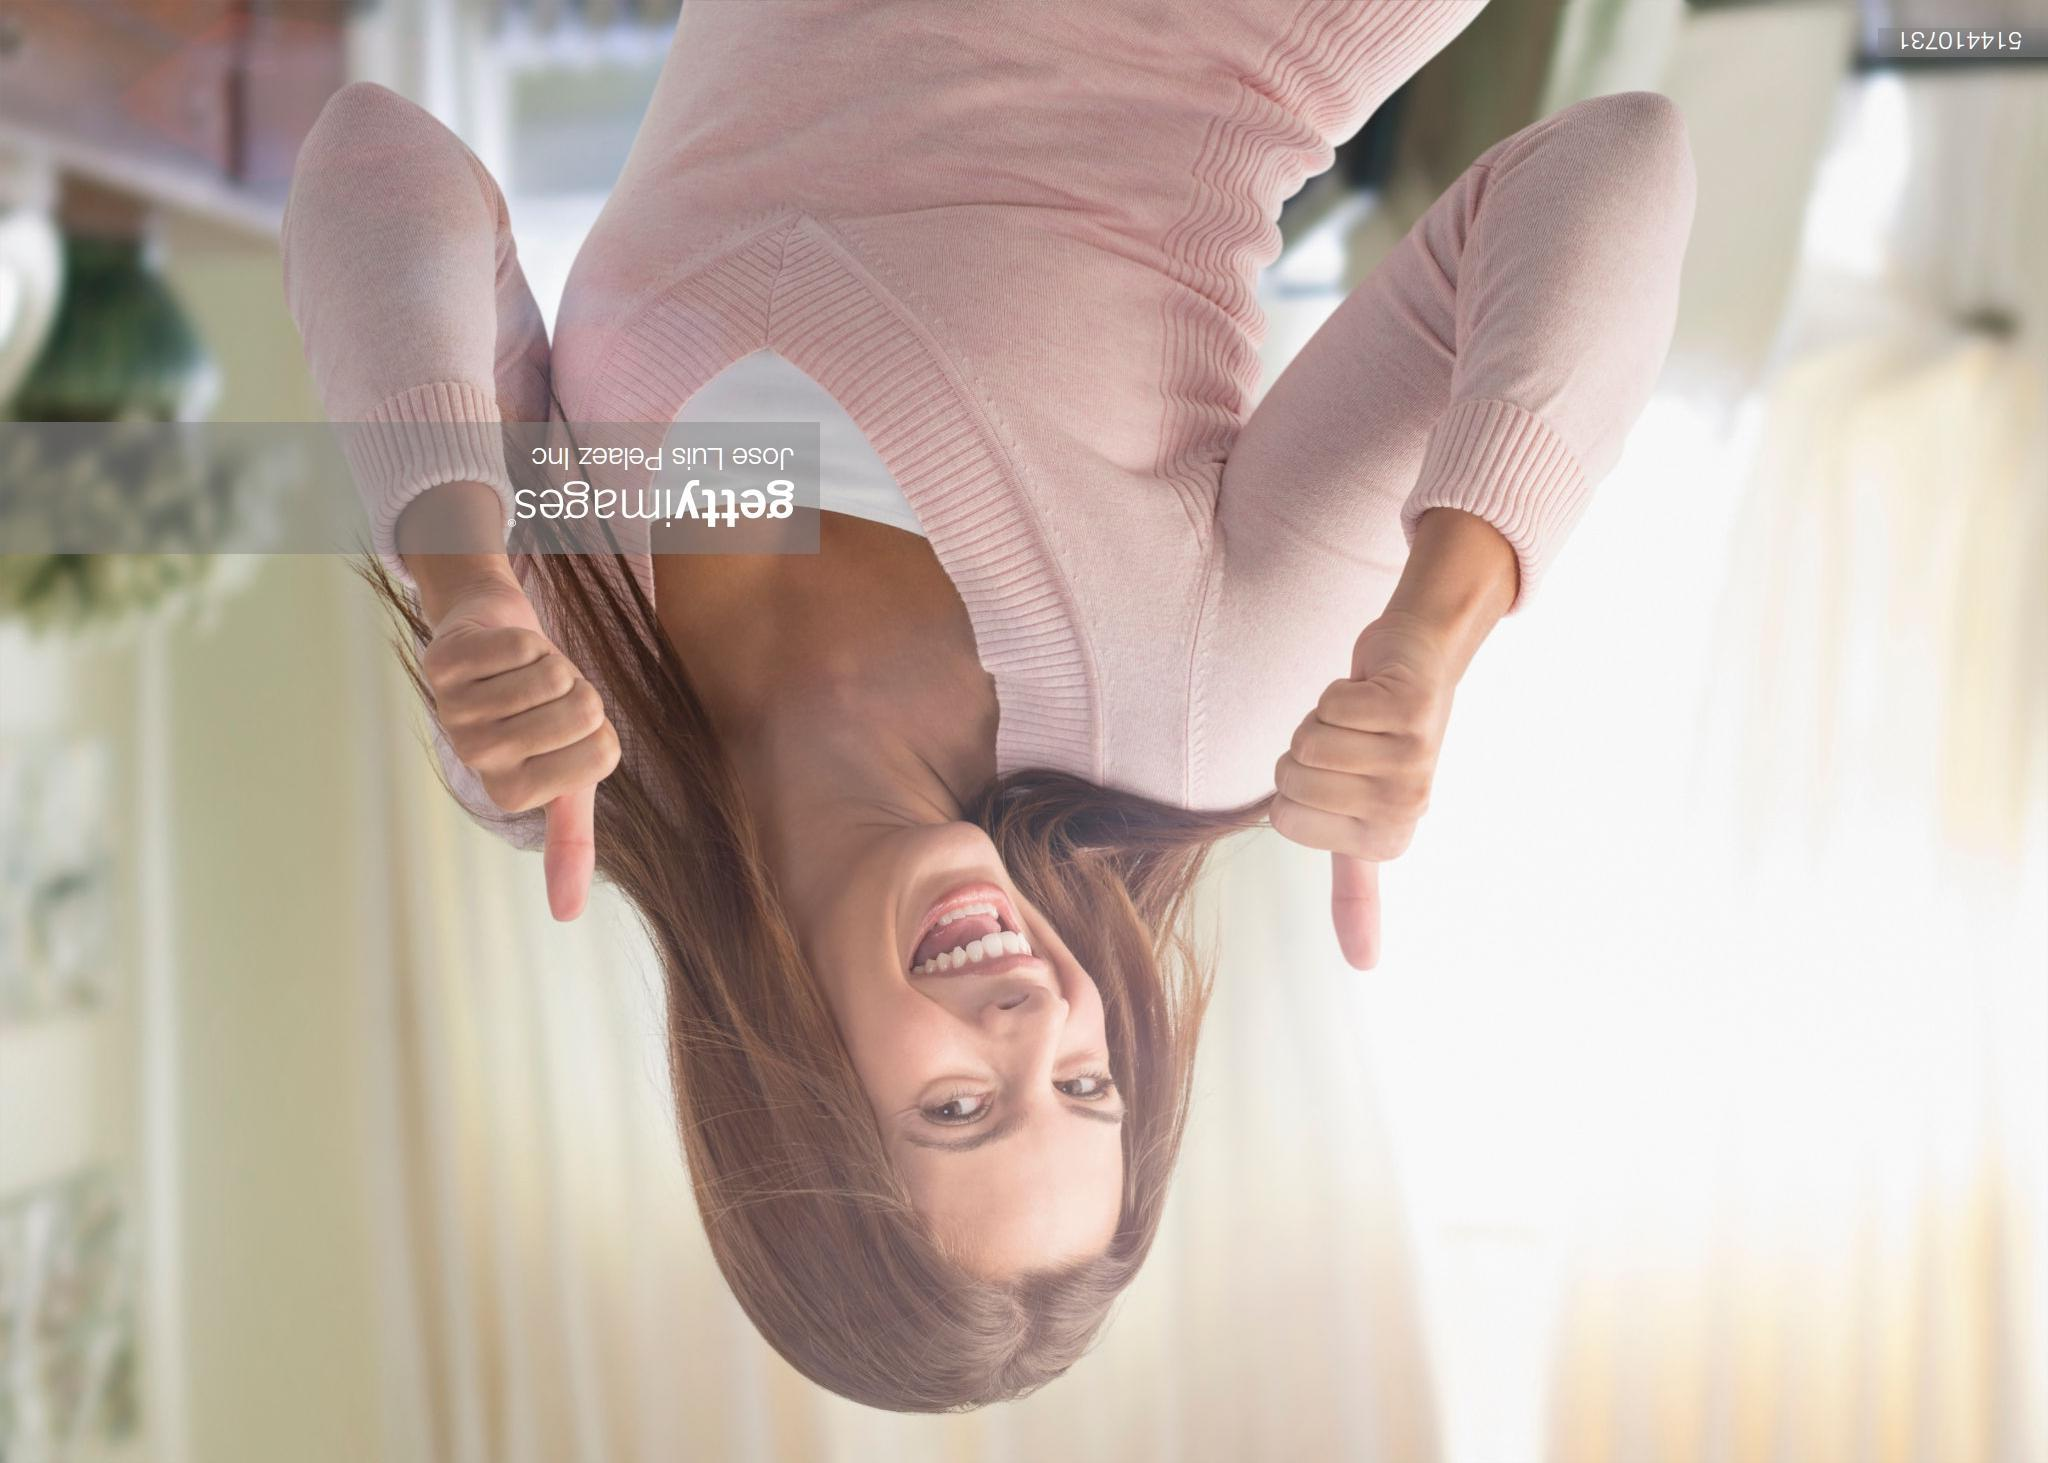thumbsdown: (424, 625, 624, 923), (1269, 676, 1447, 971)
